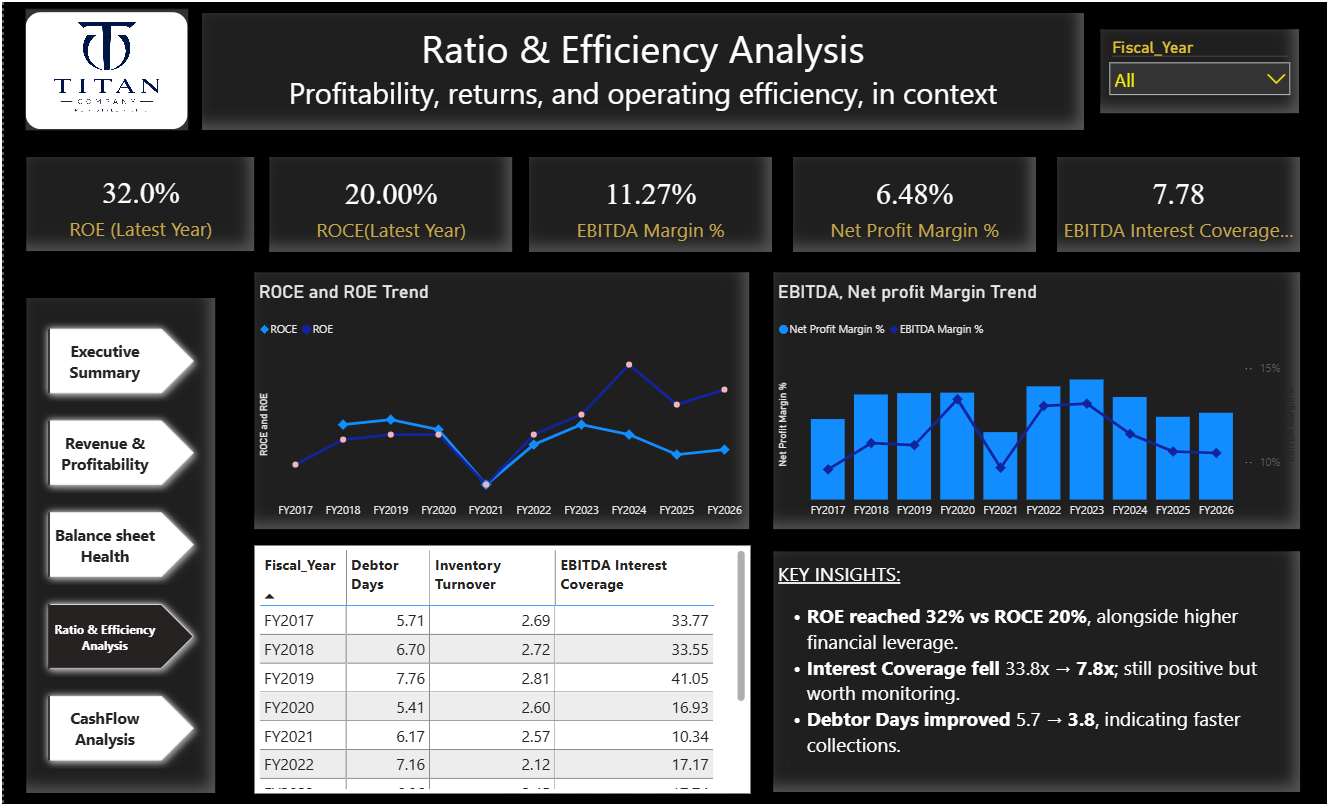

The page's visual inventory and layout, read from the dashboard file:
{"tool":"powerbi","page":{"name":"Ratio & Efficiency Analysis","canvas":[1470,900],"ordinal":3},"visuals":[{"type":"textbox","box":[220,16,980,130],"z":0},{"type":"card","fields":{"Values":["_Measures-1.ROE (Latest Year)"]},"box":[25.6,176.8,253.5,104.7],"z":1000},{"type":"card","fields":{"Values":["_Latest_Year_Measures.ROCE(Latest Year)"]},"box":[295.4,176.8,270,105],"z":2000},{"type":"card","fields":{"Values":["_Measures-1.EBITDA Margin %"]},"box":[583.8,176.8,270,105],"z":3000},{"type":"card","fields":{"Values":["_Measures-2.Net Profit Margin %"]},"box":[876.9,176.8,270,105],"z":4000},{"type":"card","fields":{"Values":["_Latest_Year_Measures.EBITDA Interest Coverage (Latest Year)"]},"box":[1170,176.8,270,105],"z":5000},{"type":"lineChart","title":"ROCE and ROE Trend","fields":{"Category":["Dim_Fiscal_year.Fiscal_Year"],"Y":["_Measures-4.ROCE","_Measures-1.ROE"]},"box":[277.5,305,550,285],"z":6000},{"type":"lineClusteredColumnComboChart","title":"EBITDA, Net profit Margin Trend","fields":{"Category":["Dim_Fiscal_year.Fiscal_Year"],"Y":["_Measures-2.Net Profit Margin %"],"Y2":["_Measures-1.EBITDA Margin %"]},"box":[855,305,585,285],"z":7000},{"type":"textbox","box":[25,332.5,210,550],"z":7000,"group":"g1"},{"type":"tableEx","fields":{"Values":["Dim_Fiscal_year.Fiscal_Year","_Measures-4.Debtor Days","_Measures-4.Inventory Turnover","_Measures-4.EBITDA Interest Coverage"]},"box":[277.5,607.5,550,275],"z":8000},{"type":"textbox","box":[855,615,585,267.5],"z":9000},{"type":"slicer","fields":{"Values":["Dim_Fiscal_year.Fiscal_Year"]},"box":[1218.8,34.9,221,93],"z":10000},{"type":"pageNavigator","box":[40,357.5,180,500],"z":10003,"group":"g1"},{"type":"group","id":"g1","title":"Group 1","box":[25,332.5,210,550],"z":11000},{"type":"image","box":[24,12,182,136],"z":11001}]}

Visuals, with their boxes in screenshot pixels (x1, y1, x2, y2), scaled from the page's 1470x900 canvas onto the 1329x806 screenshot:
textbox: left=199, top=14, right=1085, bottom=131
card - _Measures-1.ROE (Latest Year): left=23, top=158, right=252, bottom=252
card - _Latest_Year_Measures.ROCE(Latest Year): left=267, top=158, right=511, bottom=252
card - _Measures-1.EBITDA Margin %: left=528, top=158, right=772, bottom=252
card - _Measures-2.Net Profit Margin %: left=793, top=158, right=1037, bottom=252
card - _Latest_Year_Measures.EBITDA Interest Coverage (Latest Year): left=1058, top=158, right=1302, bottom=252
"ROCE and ROE Trend" lineChart: left=251, top=273, right=748, bottom=528
"EBITDA, Net profit Margin Trend" lineClusteredColumnComboChart: left=773, top=273, right=1302, bottom=528
textbox: left=23, top=298, right=212, bottom=790
tableEx - Dim_Fiscal_year.Fiscal_Year x _Measures-4.Debtor Days: left=251, top=544, right=748, bottom=790
textbox: left=773, top=551, right=1302, bottom=790
slicer - Dim_Fiscal_year.Fiscal_Year: left=1102, top=31, right=1302, bottom=115
pageNavigator: left=36, top=320, right=199, bottom=768
"Group 1" group: left=23, top=298, right=212, bottom=790
image: left=22, top=11, right=186, bottom=133
